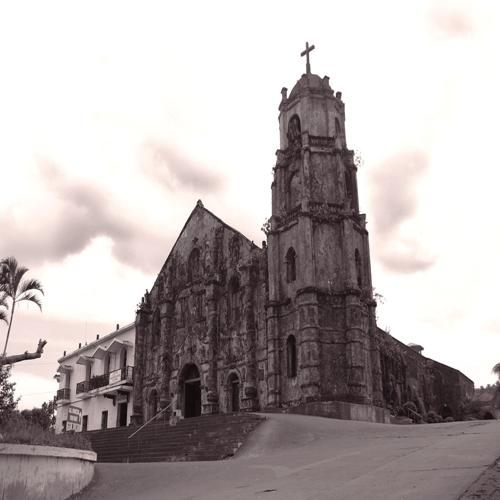Daraga Church: (132, 35, 385, 432)
